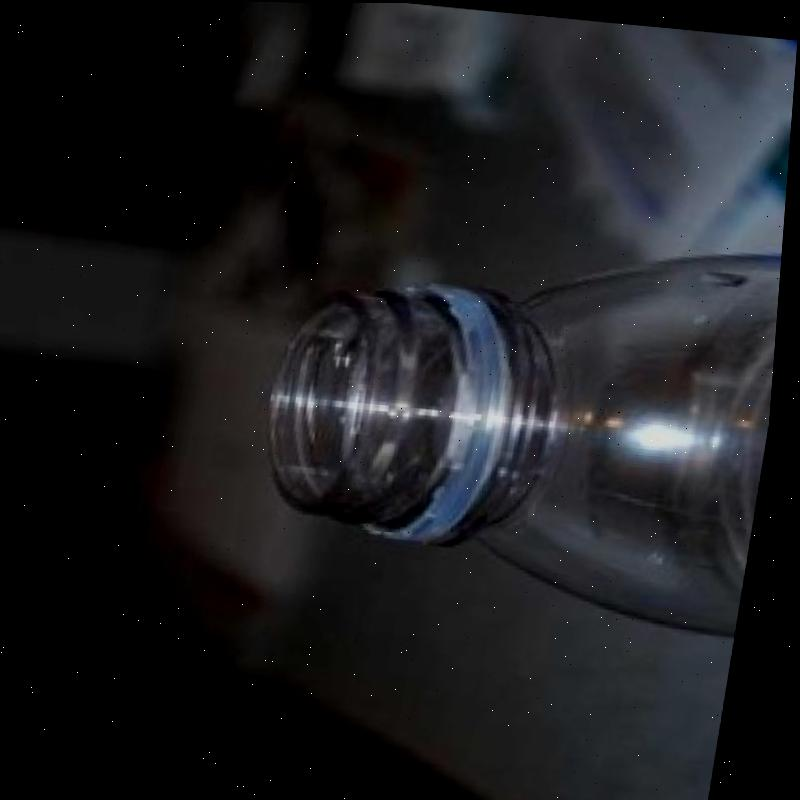botella: (248, 203, 788, 639)
